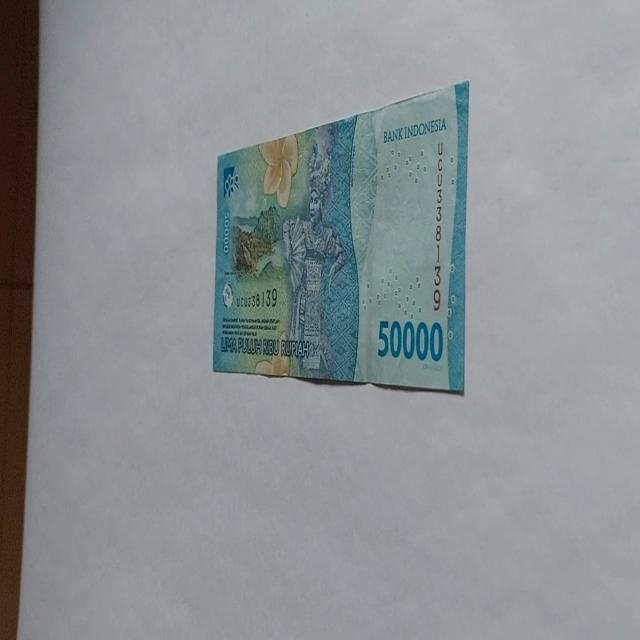lima puluh ribu rupiah: (212, 79, 470, 395), (376, 316, 444, 364), (381, 114, 447, 144)
